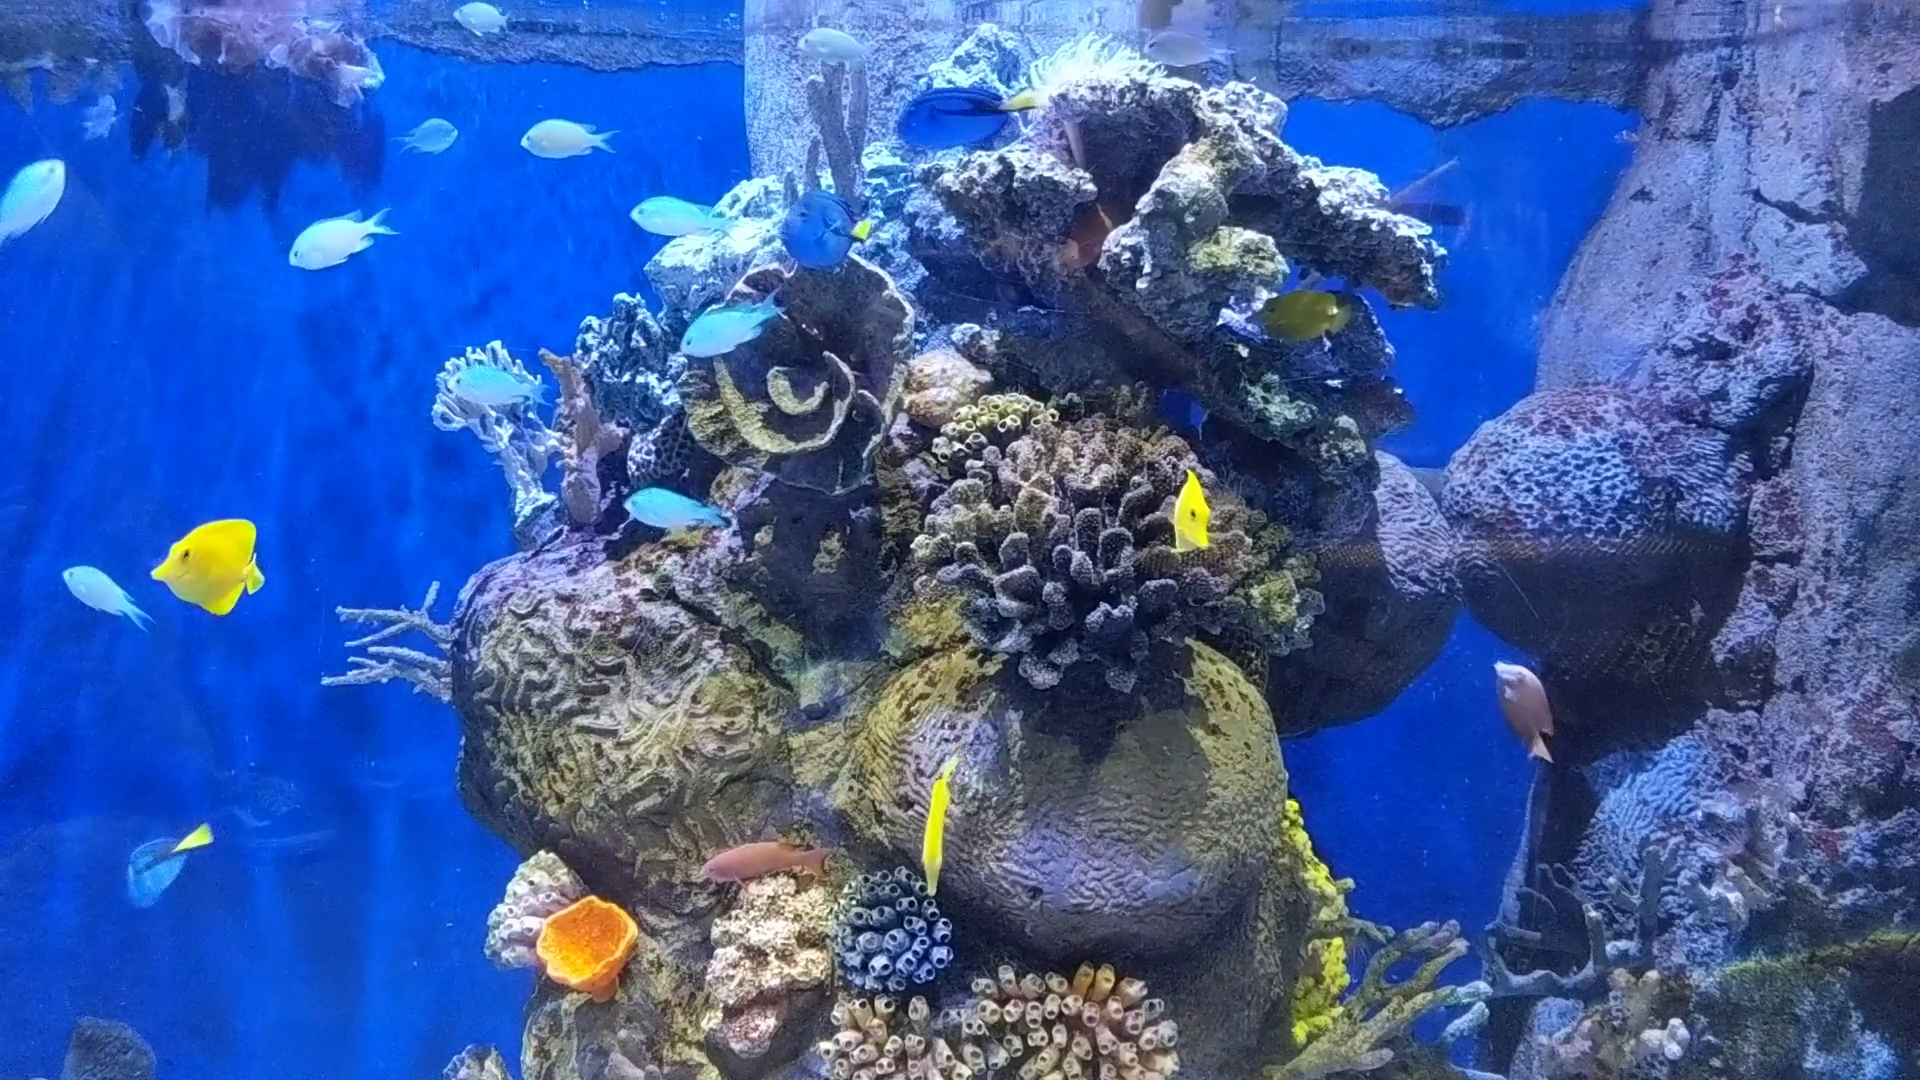blue tang surgeonfish: (887, 67, 1044, 171), (109, 811, 225, 920), (767, 185, 885, 282)
damselfish: (415, 332, 556, 425), (276, 193, 407, 284), (600, 185, 742, 261), (55, 549, 164, 644), (506, 98, 630, 171), (597, 477, 733, 542), (0, 145, 75, 257), (665, 290, 775, 363), (1131, 21, 1240, 83), (384, 102, 473, 161), (789, 21, 885, 75), (446, 0, 512, 41)
pink fish: (1482, 640, 1578, 770)
saddle butterfly fish: (129, 520, 280, 624), (895, 748, 978, 907), (1251, 272, 1358, 356), (1149, 450, 1215, 560)
